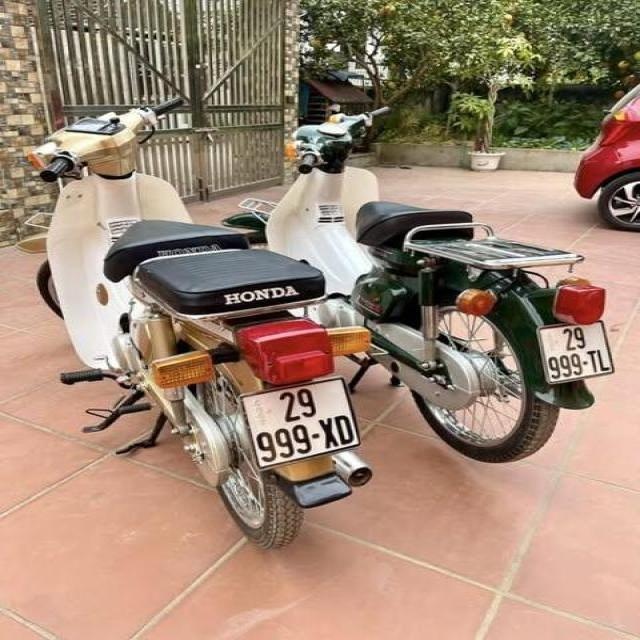car: (565, 53, 639, 273)
motorcycle: (23, 81, 379, 571), (230, 95, 624, 463)
plate: (242, 376, 366, 474), (536, 318, 617, 386)
